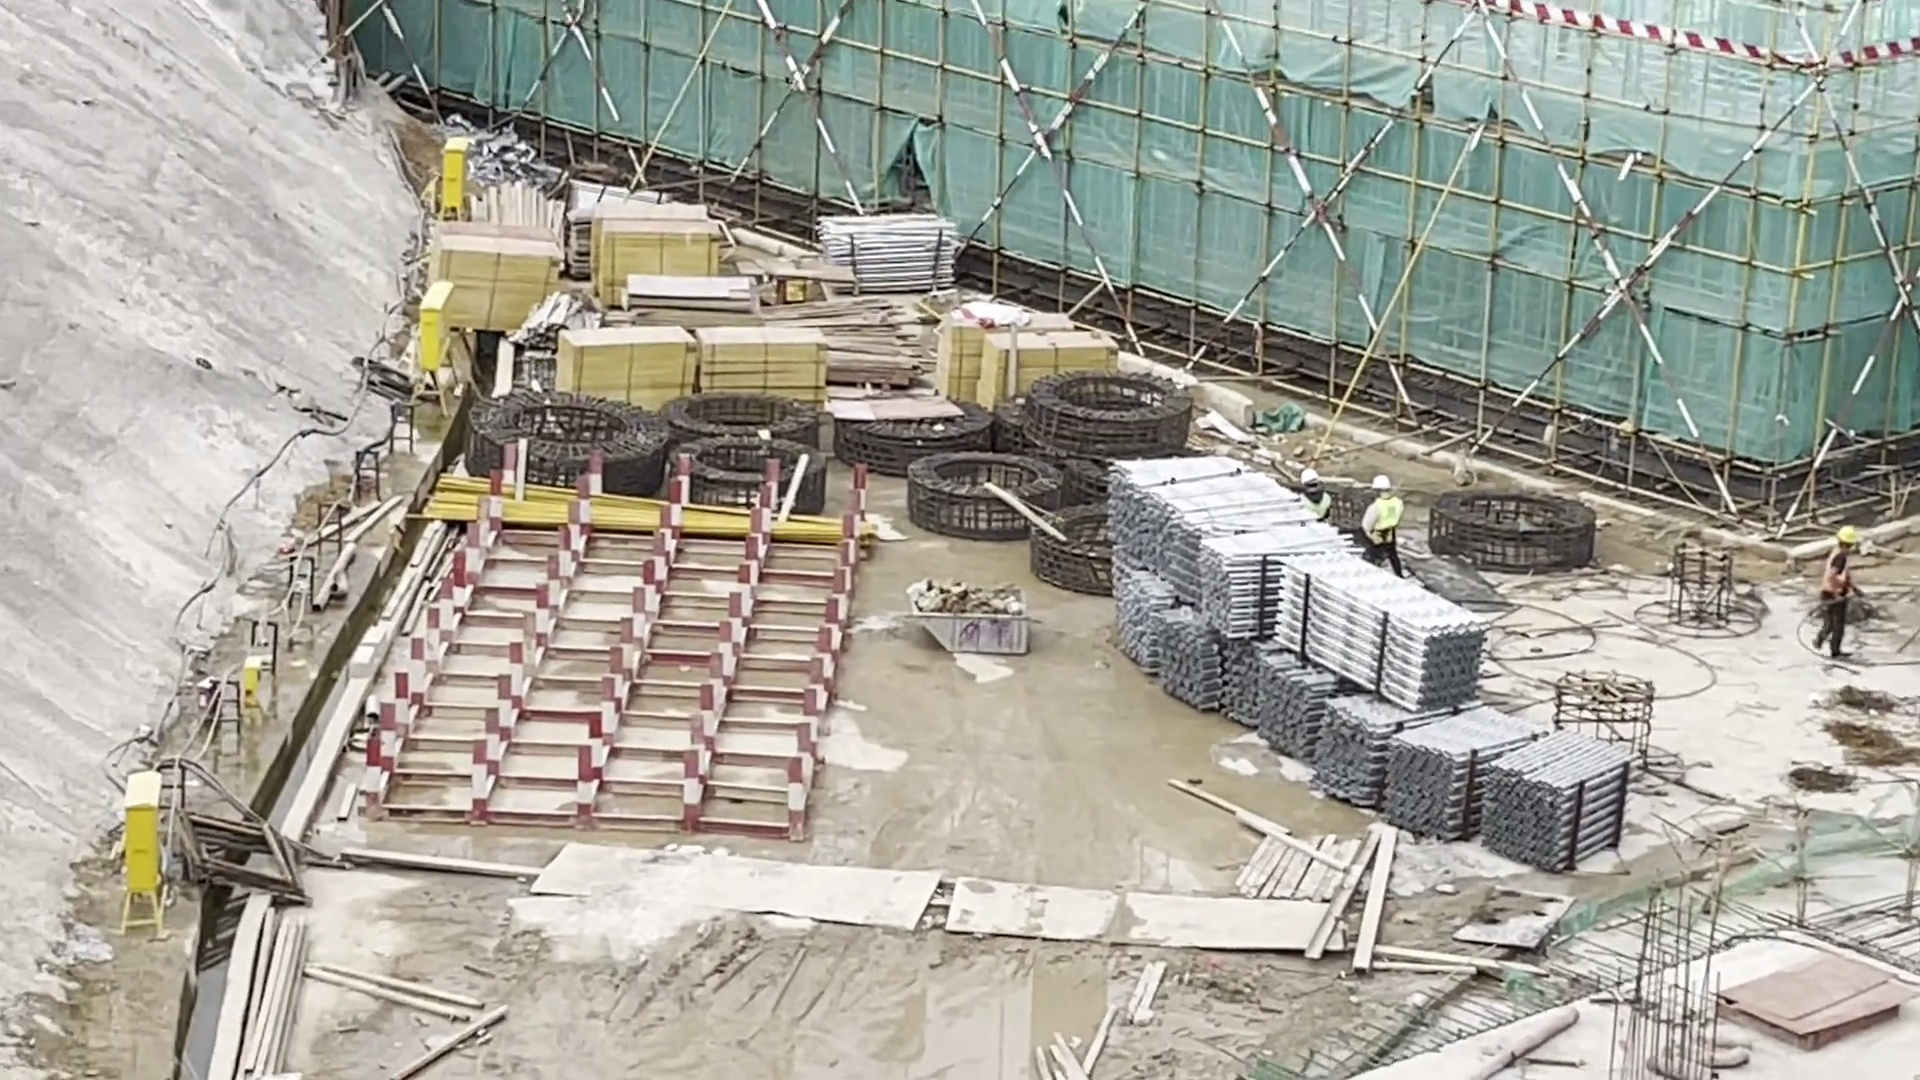ebox: (119, 771, 169, 944), (420, 280, 460, 418), (441, 135, 467, 222)
helmet: (1838, 523, 1854, 545), (1371, 476, 1388, 490), (1298, 469, 1316, 482)
hopper: (910, 582, 1028, 657)
person: (1826, 523, 1856, 671), (1363, 472, 1403, 560), (1295, 467, 1330, 515)
scaffold: (1100, 456, 1640, 872), (815, 202, 959, 304)
vest: (1372, 497, 1399, 532), (1826, 551, 1847, 595), (1301, 490, 1328, 517)
